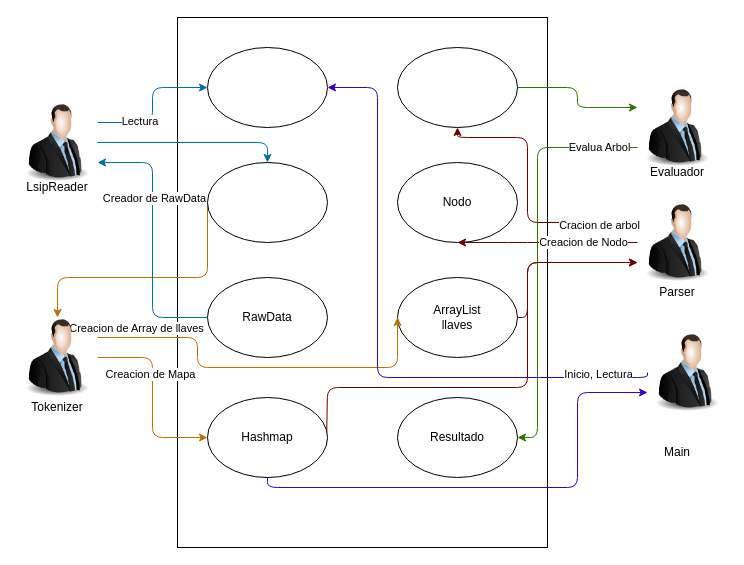
Image size: 744x565. Some labels were removed from this diagram. Here are the shapes that lost their labels. From the top down, the centre of each, then its label:
point (267, 87): LeerArchivo
point (457, 87): AST Arbol
point (267, 202): Tokenizar
